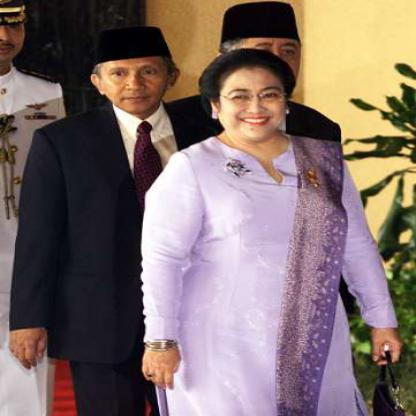face: (228, 9, 304, 99), (217, 53, 289, 143), (100, 34, 170, 116), (1, 3, 28, 63)
